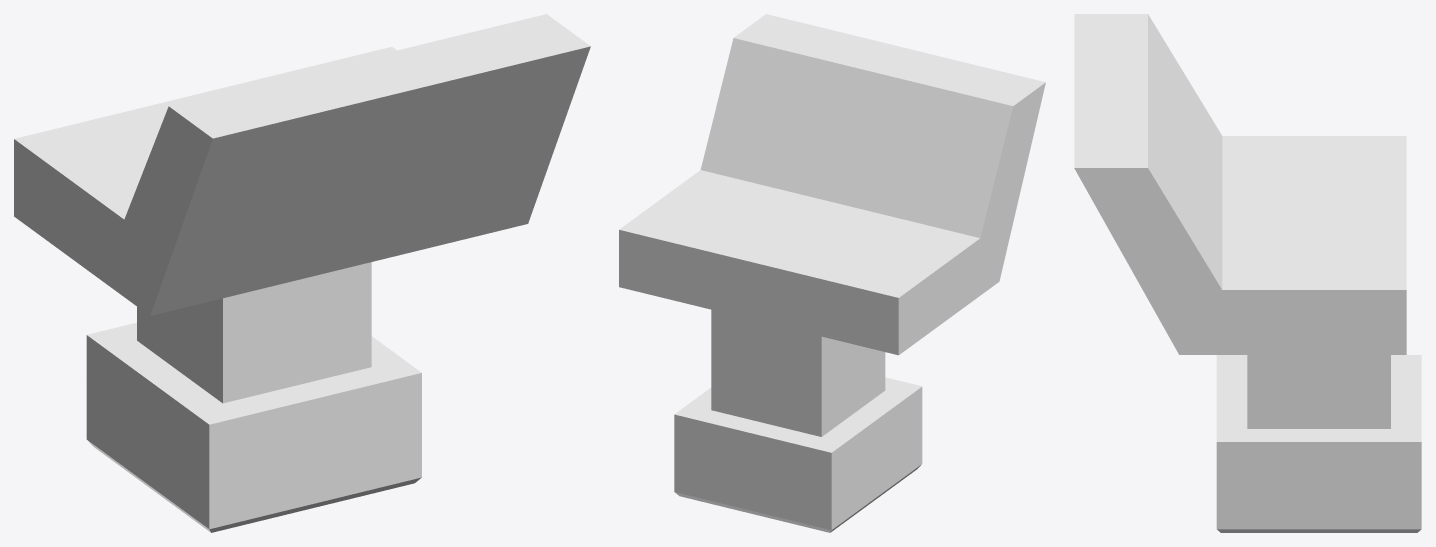
The model's file is Chair_simple.FBX.
3 views of the same model, side by side, from view 1: azimuth 30°, elevation 25°; view 2: azimuth 150°, elevation 25°; view 3: azimuth 270°, elevation 25° (orthographic). The views are drawn at different scales.
Parts seen in each view (by area): view 1: Chair_simple; view 2: Chair_simple; view 3: Chair_simple.
Part boxes in pixels (box(x1,y1,x2,y2)): Chair_simple: box(14, 14, 590, 532); Chair_simple: box(619, 14, 1045, 532); Chair_simple: box(1074, 14, 1421, 532).
Bounding box in the file's own units: 178 × 169 × 216.
